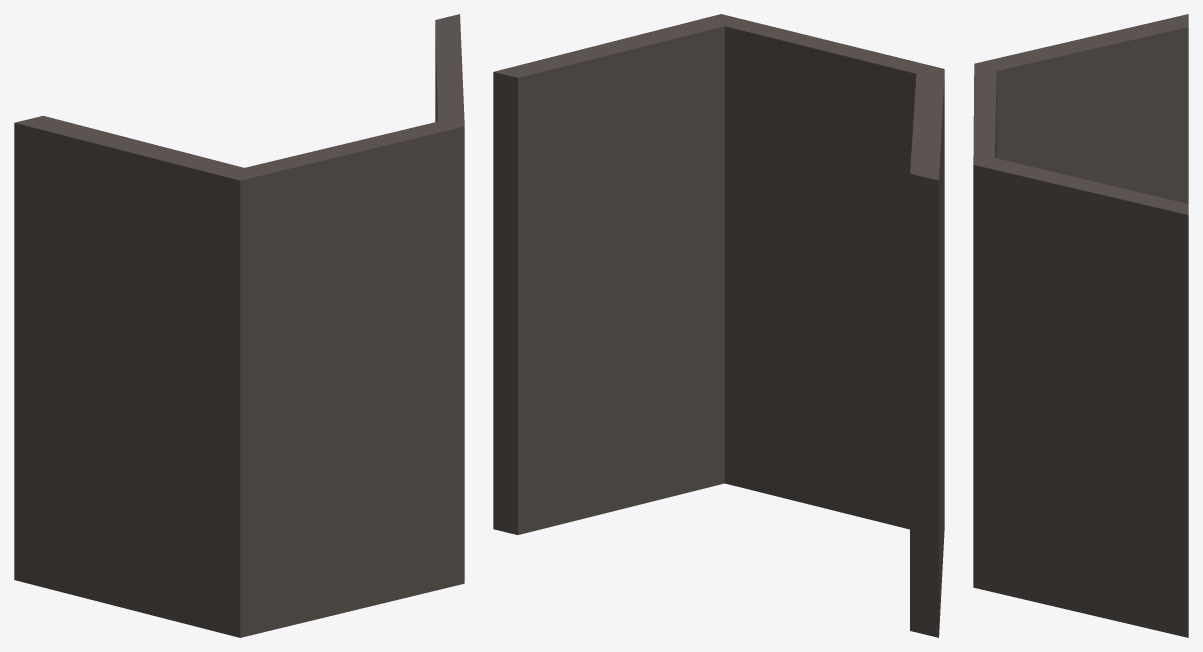
Rendered from MCastle_SmallTurret_Int_01.FBX.
The picture shows the model from 3 angles, left to right: view 1: azimuth 30°, elevation 25°; view 2: azimuth 150°, elevation 25°; view 3: azimuth 270°, elevation 25°; orthographic projection. The views are drawn at different scales.
Visible parts, largest first — view 1: MCastle_SmallTurret_Int_01; view 2: MCastle_SmallTurret_Int_01; view 3: MCastle_SmallTurret_Int_01.
Part boxes in pixels (box(x1,y1,x2,y2)): MCastle_SmallTurret_Int_01: box(14, 14, 464, 637); MCastle_SmallTurret_Int_01: box(493, 14, 944, 637); MCastle_SmallTurret_Int_01: box(973, 14, 1188, 637).
Size of the model in its own units: 4.59 by 4.5 by 2.07.
